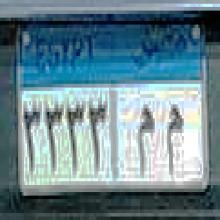3: (88, 99, 112, 175), (44, 101, 64, 172), (67, 100, 85, 173), (23, 101, 41, 172)
meem: (134, 104, 158, 177), (166, 104, 183, 173)
